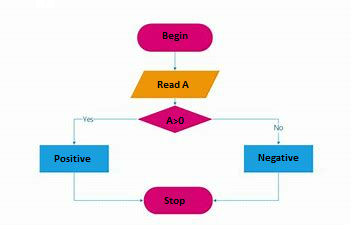arrow: (72, 171, 144, 203), (213, 171, 282, 203), (212, 116, 282, 144), (71, 117, 140, 145), (172, 50, 179, 70), (172, 98, 179, 106)
data: (129, 69, 221, 99)
decision: (137, 105, 214, 134)
process: (242, 143, 315, 174), (38, 144, 111, 174)
terminator: (136, 22, 214, 54), (143, 186, 214, 215)
text: (257, 152, 299, 164), (52, 153, 92, 163), (155, 79, 190, 89), (162, 30, 189, 42), (162, 195, 187, 207), (163, 115, 186, 126), (81, 115, 95, 123), (272, 124, 285, 132)
